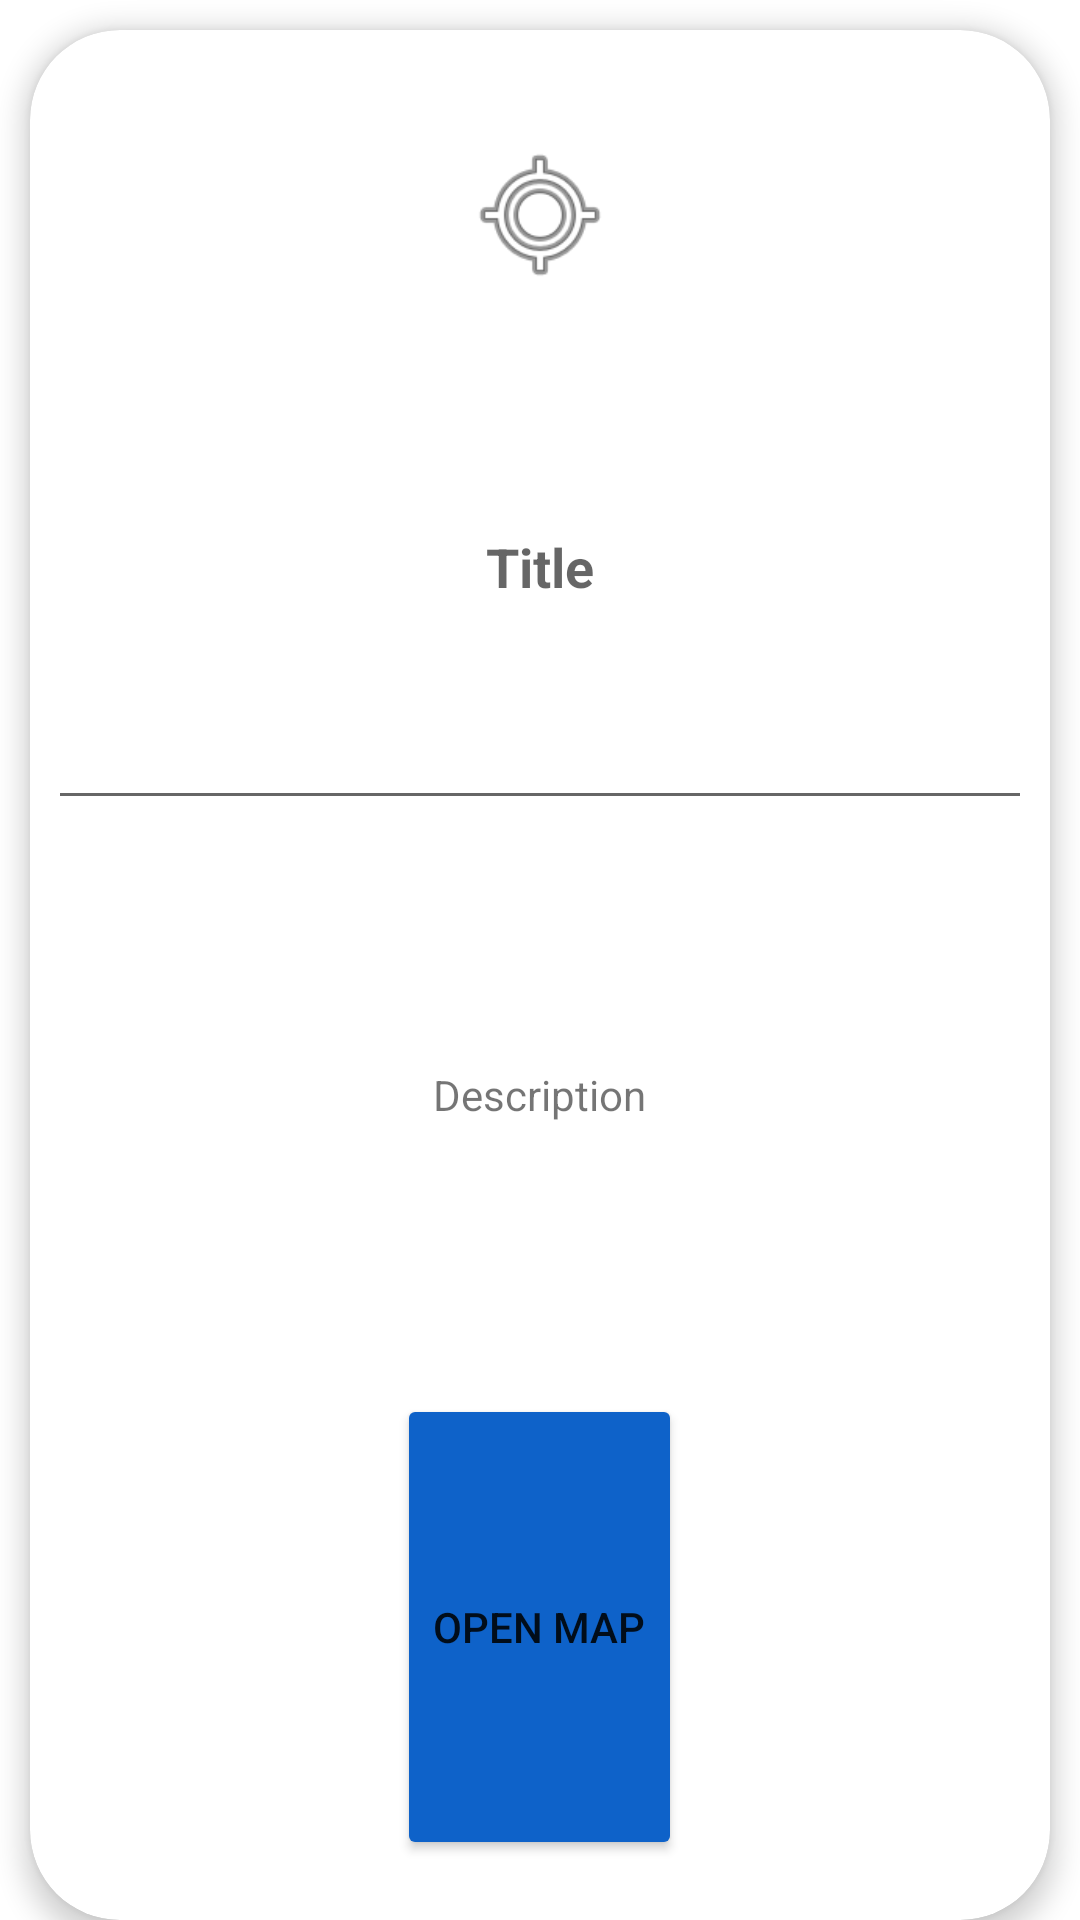

Icons on this 1080 × 1920 Android screen, each with the point to tap as (x,y):
mylocation: (540,215)
